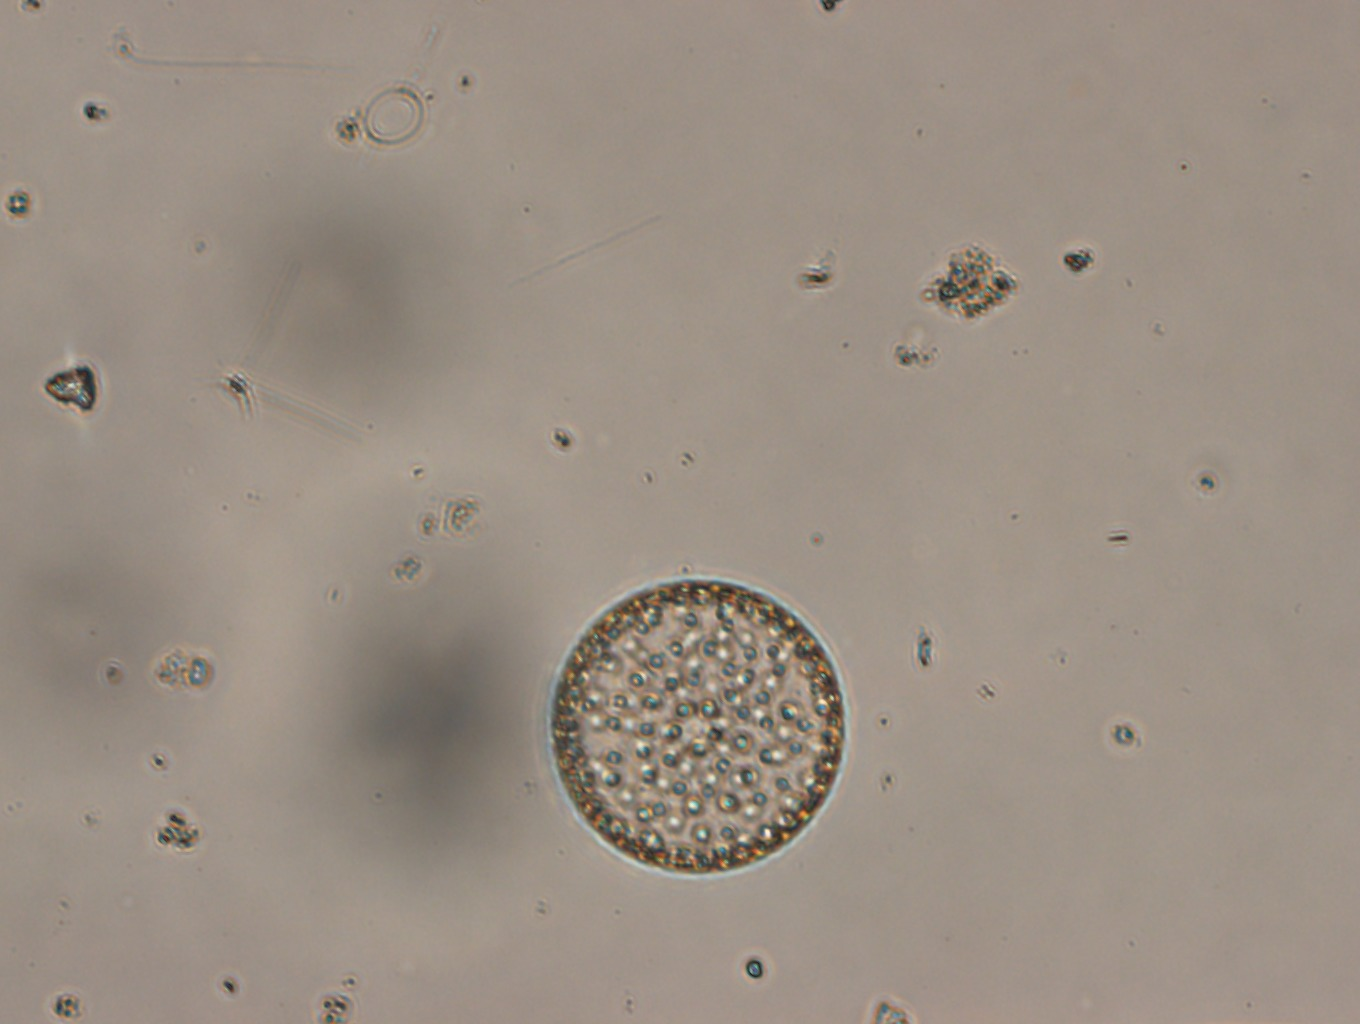coscinodiscus: (539, 574, 862, 885)
